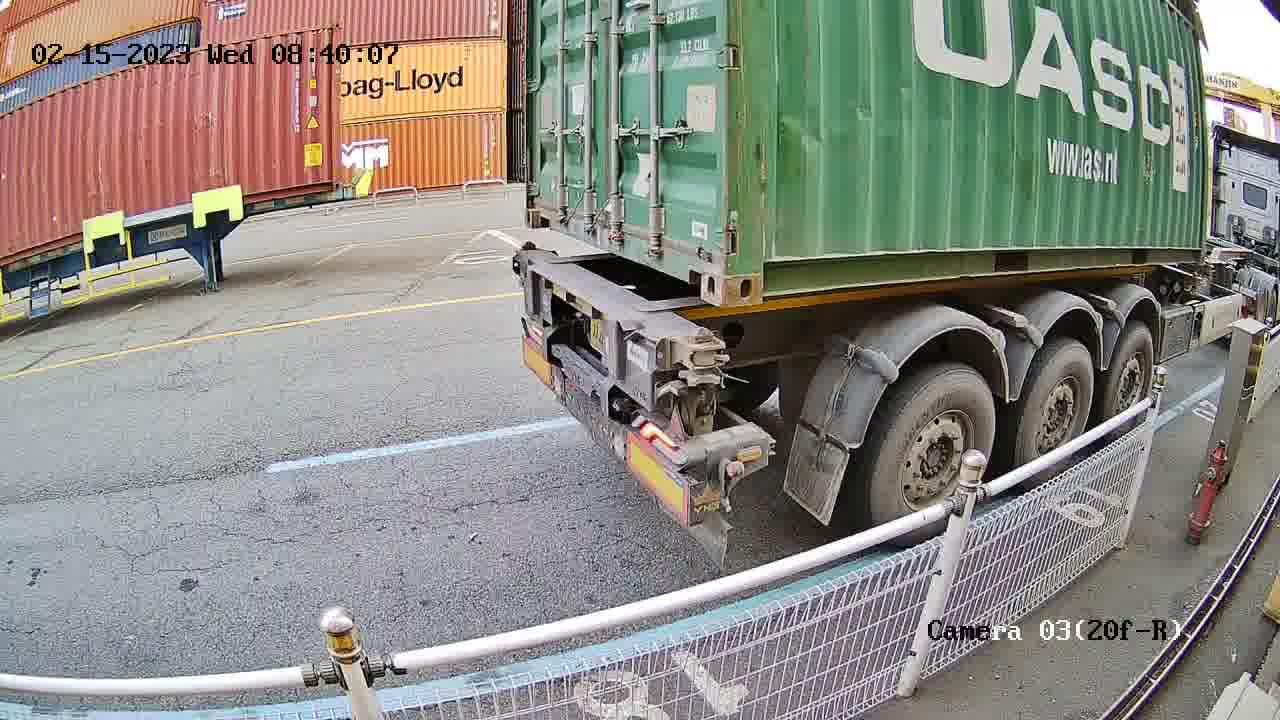Chassis: (520, 250, 714, 405)
Cone: (668, 323, 732, 397), (510, 236, 544, 272)
Hole_L: (726, 226, 806, 306), (521, 182, 559, 230)
Hole_R: (672, 218, 727, 305)
Tire: (873, 371, 996, 520), (1016, 344, 1094, 467), (1105, 328, 1155, 417)
